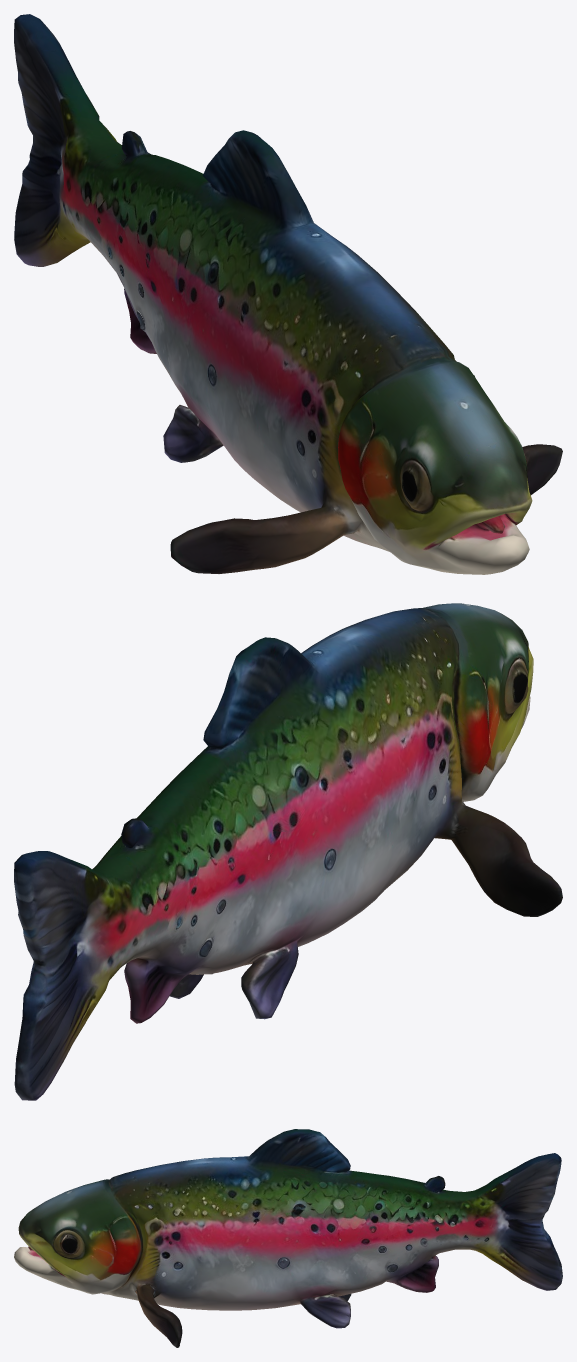
File: trout.glb
The picture shows the model from 3 angles, top to bottom: view 1: azimuth 30°, elevation 25°; view 2: azimuth 150°, elevation 25°; view 3: azimuth 270°, elevation 25°; orthographic projection. The views are drawn at different scales.
Visible parts, largest first — view 1: tripo_node_f971c239-9a04-450e-912b-7c2a04b4f22b; view 2: tripo_node_f971c239-9a04-450e-912b-7c2a04b4f22b; view 3: tripo_node_f971c239-9a04-450e-912b-7c2a04b4f22b.
Part boxes in pixels (<box>): tripo_node_f971c239-9a04-450e-912b-7c2a04b4f22b: <box>14,14,562,574</box>; tripo_node_f971c239-9a04-450e-912b-7c2a04b4f22b: <box>14,603,562,1100</box>; tripo_node_f971c239-9a04-450e-912b-7c2a04b4f22b: <box>14,1129,562,1347</box>.
Size of the model in its own units: 0.4558 by 0.3757 by 1.
Materials: 1 (1 with a texture image).
